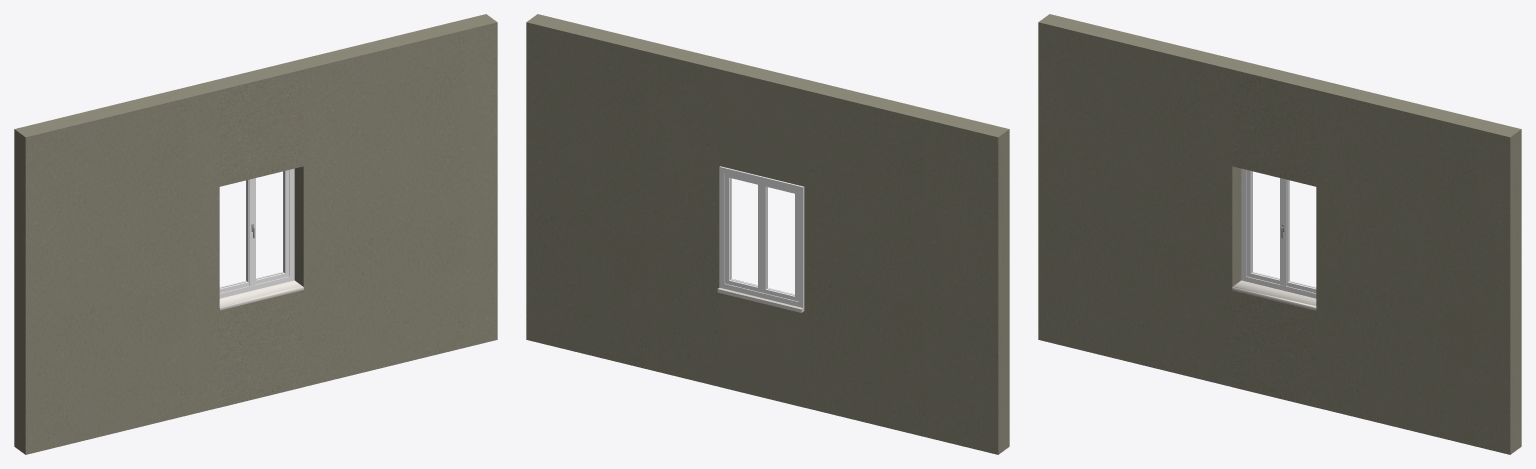
File: window.glb
3 views of the same model, side by side, from view 1: azimuth 30°, elevation 25°; view 2: azimuth 150°, elevation 25°; view 3: azimuth 330°, elevation 25° (orthographic).
Parts seen in each view (by area): view 1: 立方体, 立方体.002, 立方体.003, window_frame; view 2: 立方体, 立方体.002, 立方体.003, window_frame; view 3: 立方体, 立方体.003, 立方体.002, window_frame.
Part boxes in pixels (x1,y1,x2,y2): 立方体: [14, 14, 497, 454]; 立方体.002: [219, 69, 303, 186]; 立方体.003: [219, 290, 303, 407]; window_frame: [219, 168, 303, 310]; 立方体: [526, 14, 1009, 454]; 立方体.002: [720, 69, 804, 186]; 立方体.003: [720, 293, 804, 407]; window_frame: [717, 166, 804, 312]; 立方体: [1038, 14, 1521, 454]; 立方体.003: [1232, 290, 1316, 407]; 立方体.002: [1232, 69, 1316, 186]; window_frame: [1232, 168, 1316, 310].
Bounding box in the file's own units: 8.1 × 5.21 × 0.4229.
9 materials, 3 textured.
